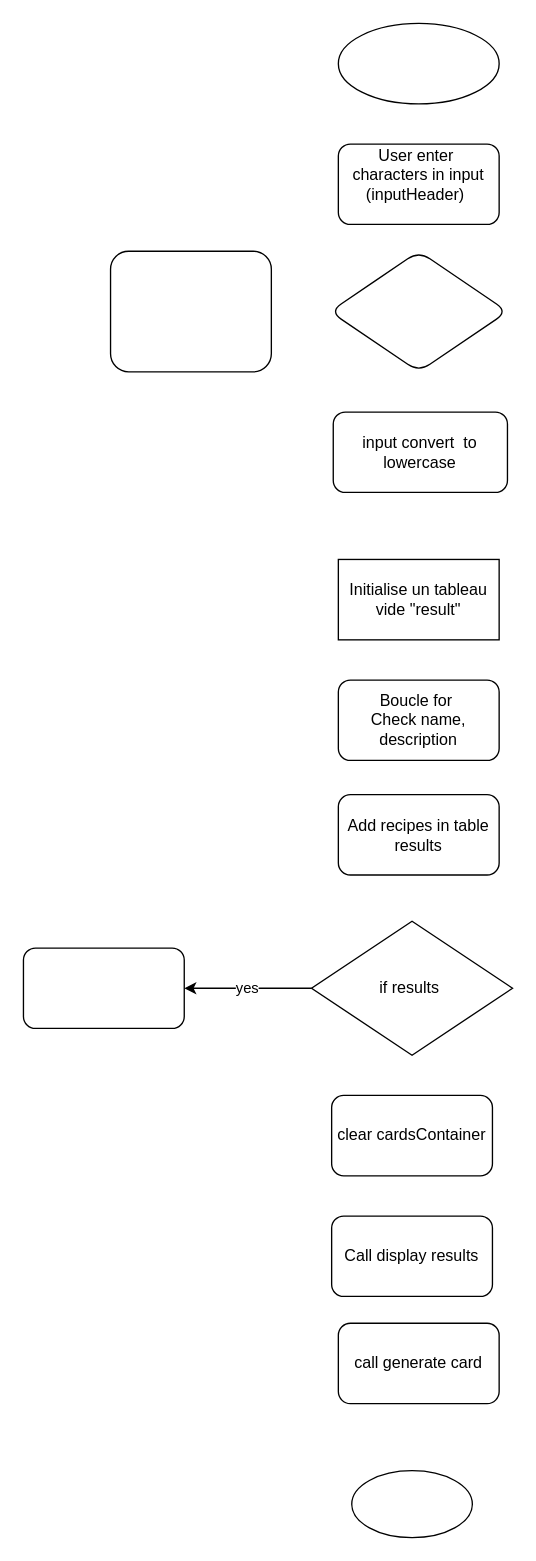
Image size: 536x1561. Some labels were removed from this diagram. The box of each missing label's shape, as (x1, y1, x2, y2) in pixels:
END: (350, 1469, 472, 1538)
Error message: (22, 947, 184, 1028)
input.lenght >= 3: (329, 250, 508, 372)
MESSAGE ERROR : Veuillez entrer minimum 3 caractères: (109, 250, 271, 372)
START: (337, 22, 499, 104)
